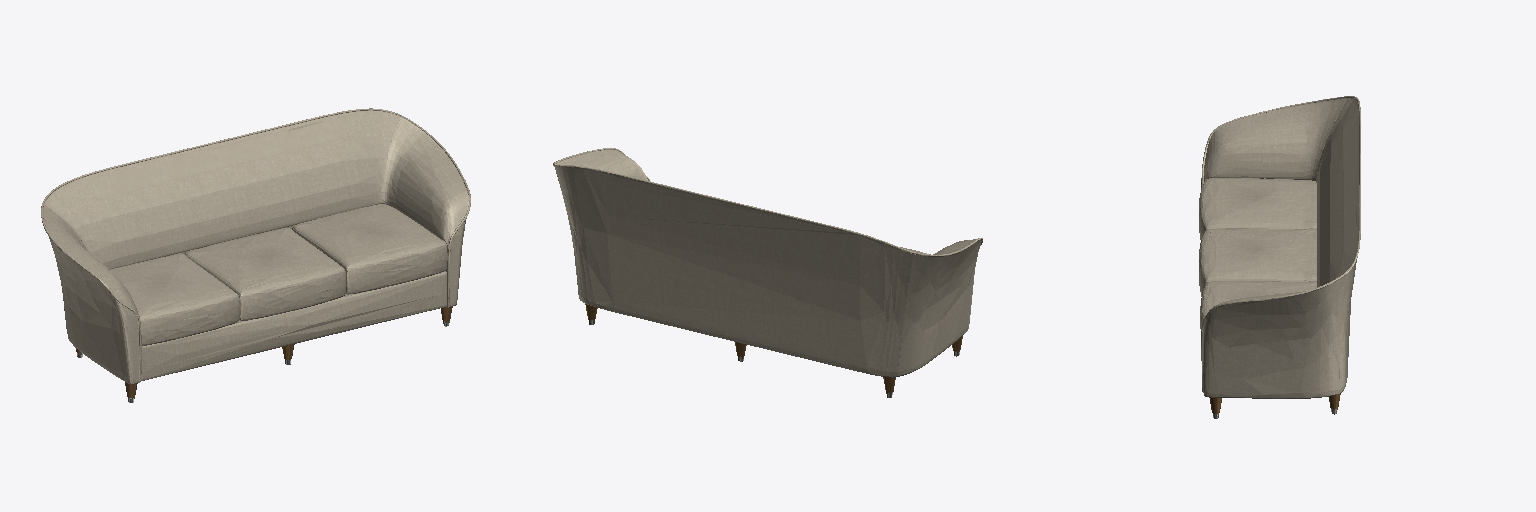
3 renders of one model, left to right at view 1: azimuth 30°, elevation 25°; view 2: azimuth 150°, elevation 25°; view 3: azimuth 270°, elevation 25°, orthographic.
Parts seen in each view (by area): view 1: solid_003; view 2: solid_003; view 3: solid_003.
Part boxes in pixels (bbox=[...]): solid_003: bbox=[41, 108, 470, 384]; solid_003: bbox=[553, 148, 982, 377]; solid_003: bbox=[1199, 96, 1360, 398].
Bounding box in the file's own units: 2.32 × 0.9668 × 0.8397.
Materials: 1 (1 with a texture image).